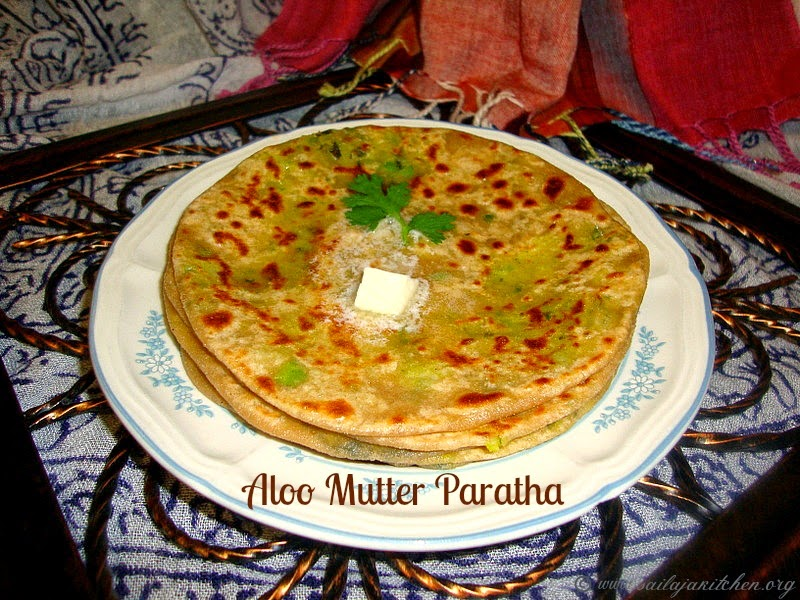aloo_paratha: (162, 121, 655, 469)
